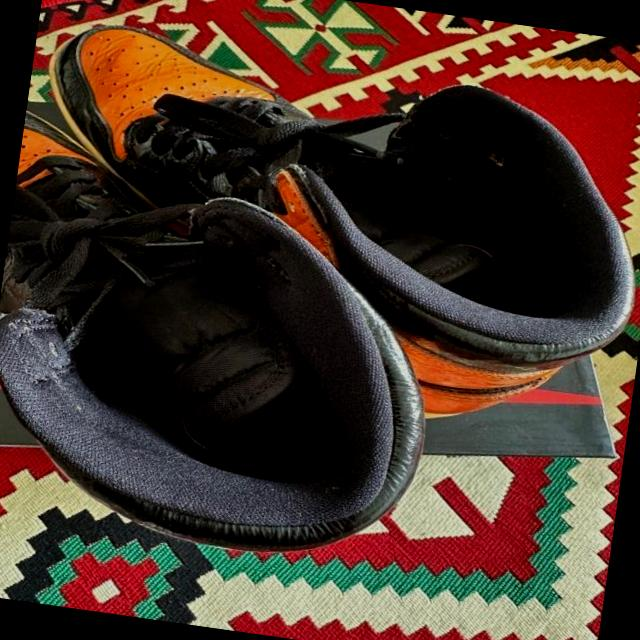nike_original_jordan: (6, 16, 640, 448)
